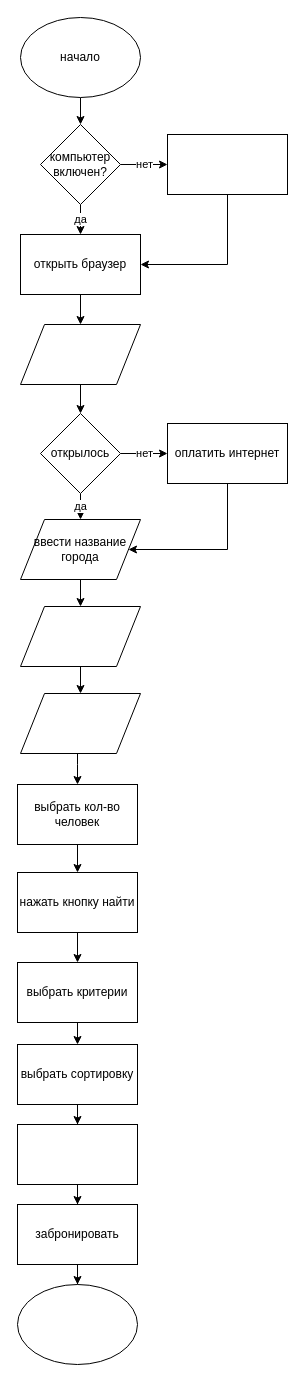
Some shapes in this 305 by 1382 pixel diagram are drawn without their labels. The centre of each missing label's shape, as x and y in pixels:
"ввести в адресную строку booking.com" goes at pixel 80 354.
"ввести дату отъезда" goes at pixel 80 723.
"ввести дату приезда" goes at pixel 80 636.
"включить компьютер" goes at pixel 227 164.
"выбрать подходящий вариант" goes at pixel 77 1154.
"конец" goes at pixel 77 1324.
